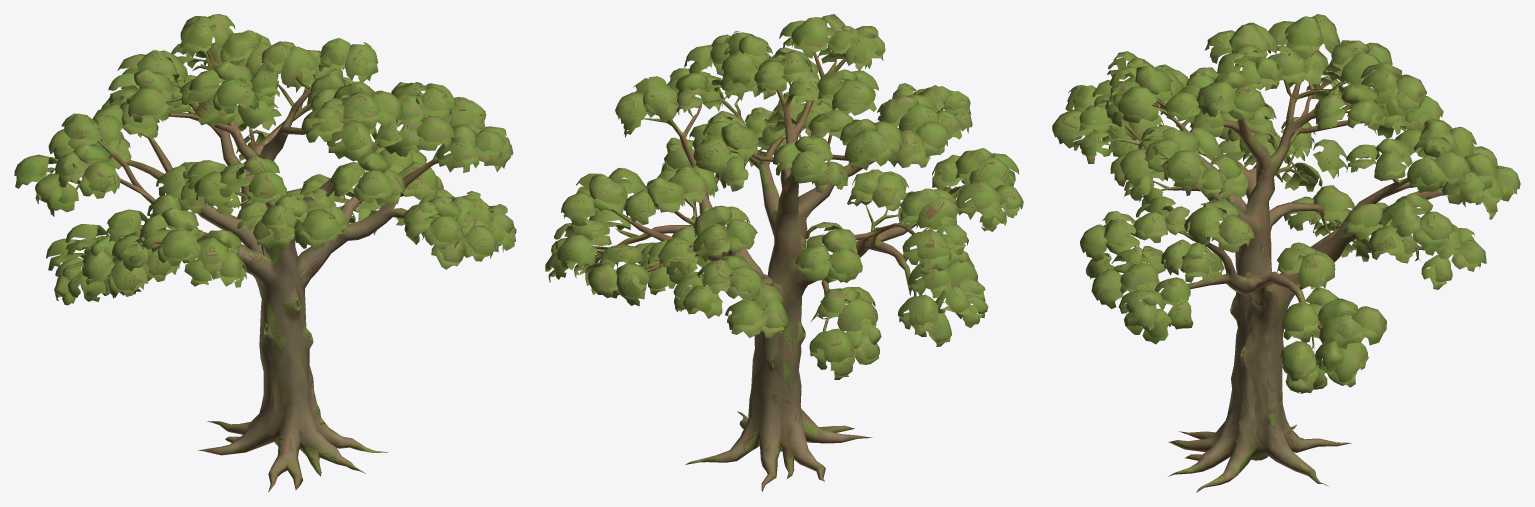
The model's file is tree-10.glb.
The picture shows the model from 3 angles, left to right: view 1: azimuth 30°, elevation 25°; view 2: azimuth 150°, elevation 25°; view 3: azimuth 270°, elevation 25°; orthographic projection. The views are drawn at different scales.
Size of the model in its own units: 0.9995 by 0.9399 by 0.9771.
1 material, 1 textured.
